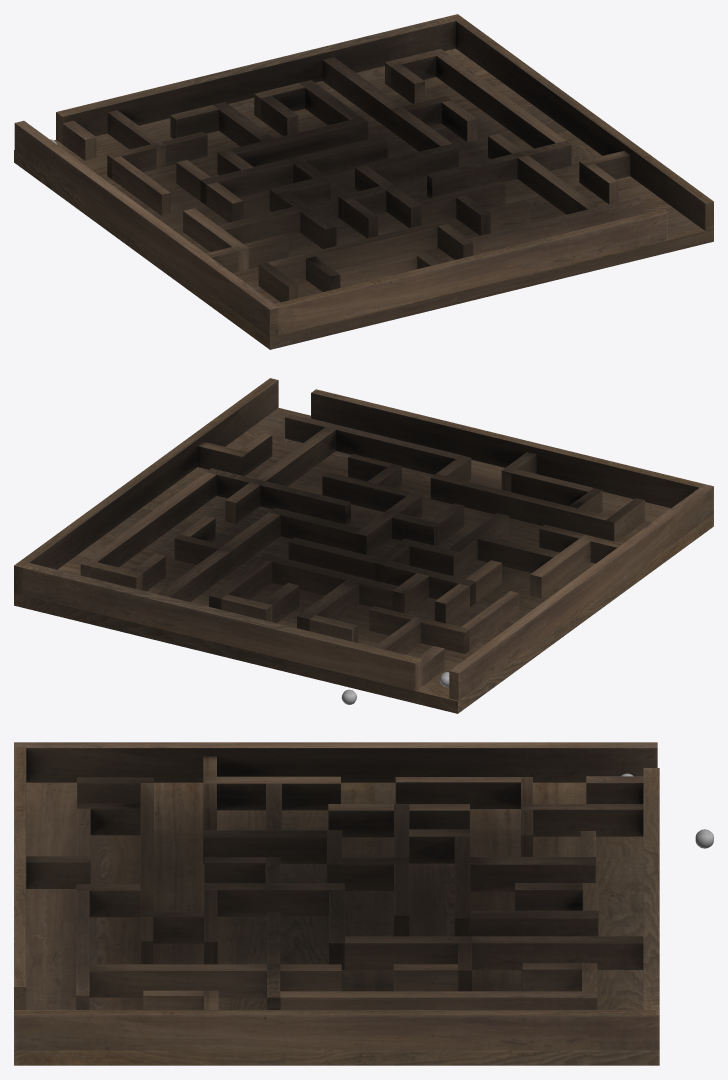
File: maze.glb
The picture shows the model from 3 angles, top to bottom: view 1: azimuth 30°, elevation 25°; view 2: azimuth 150°, elevation 25°; view 3: azimuth 270°, elevation 25°; orthographic projection. The views are drawn at different scales.
Parts seen in each view (by area): view 1: polySurface14_lambert5_0; view 2: polySurface14_lambert5_0; view 3: polySurface14_lambert5_0.
Boxes of the visible parts, bbox=[...] form: polySurface14_lambert5_0: bbox=[14, 14, 713, 349]; polySurface14_lambert5_0: bbox=[14, 378, 713, 713]; polySurface14_lambert5_0: bbox=[14, 742, 659, 1065].
Size of what is drawn, in the model's own units: 31.14 by 2.69 by 33.74.
1 material, 1 textured.
